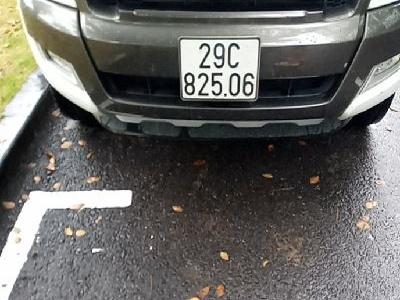lisence: (178, 35, 262, 100)
